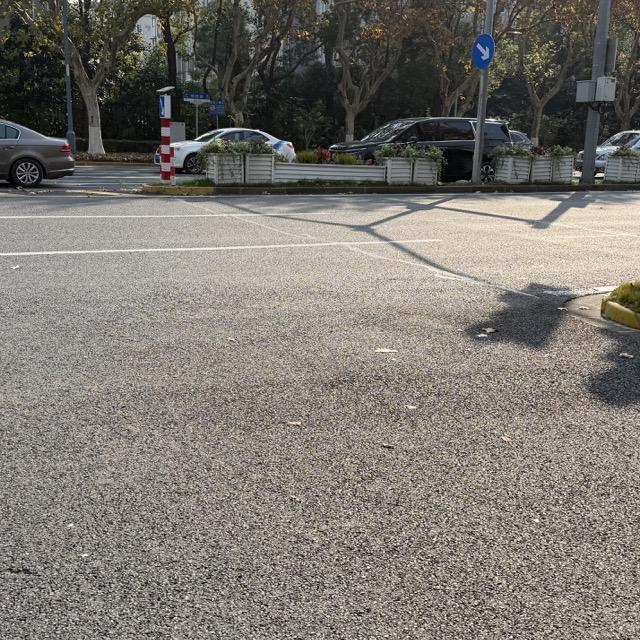curb: (102, 182, 576, 196), (602, 296, 639, 330)
